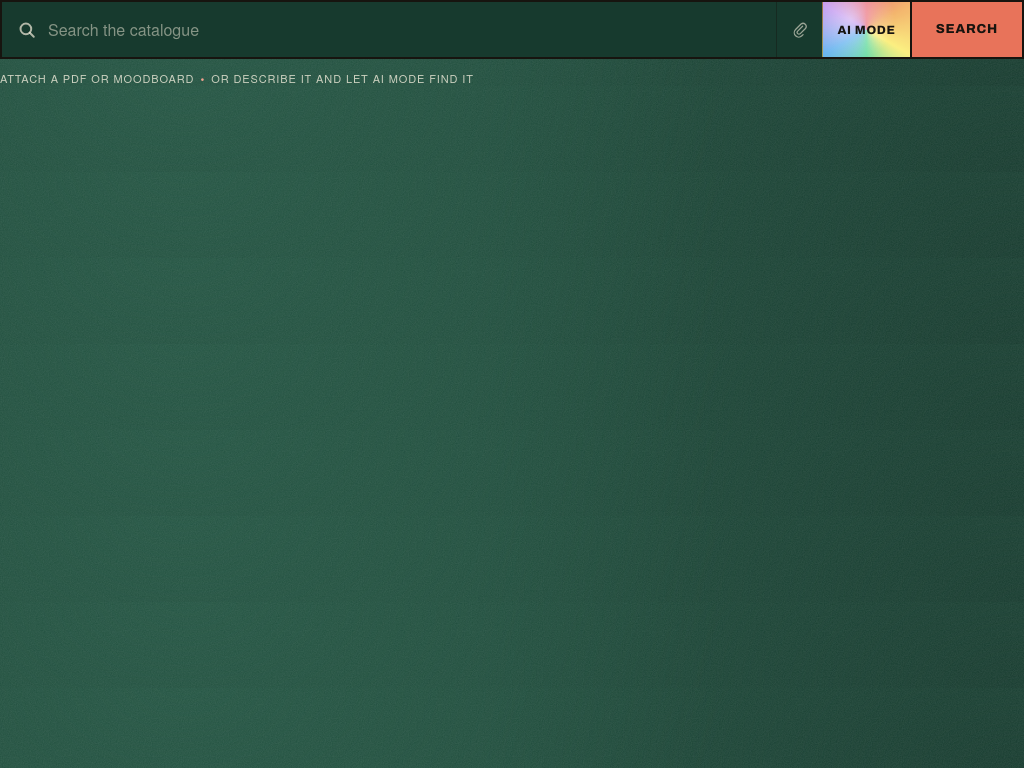
Test case: HeroSearch › routes the curated query with ai=1 and the budget when the dialog submits
Type "moody bar" into the search field labelled "Search the catalogue".
click(406, 30); type("moody bar")  # box [48,2,764,57]
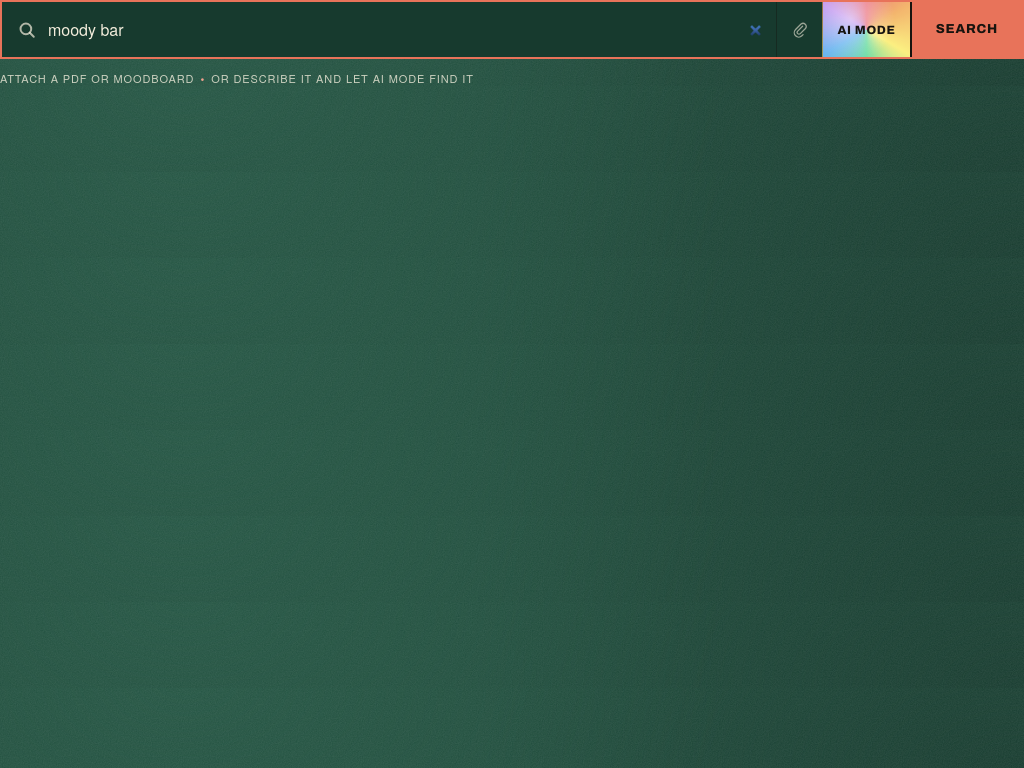
Click the button "AI Mode".
click(866, 30)  # box [822,2,910,57]
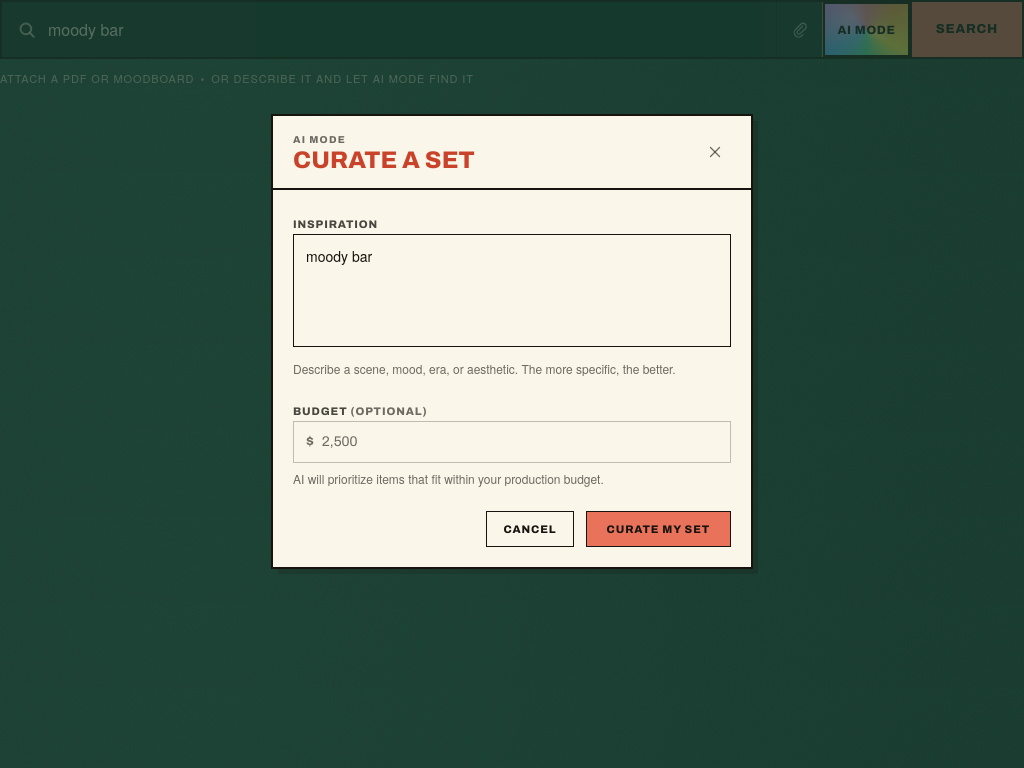
Type "2500" into the field labelled "Budget (optional)".
click(522, 442); type("2500")  # box [314,422,730,462]
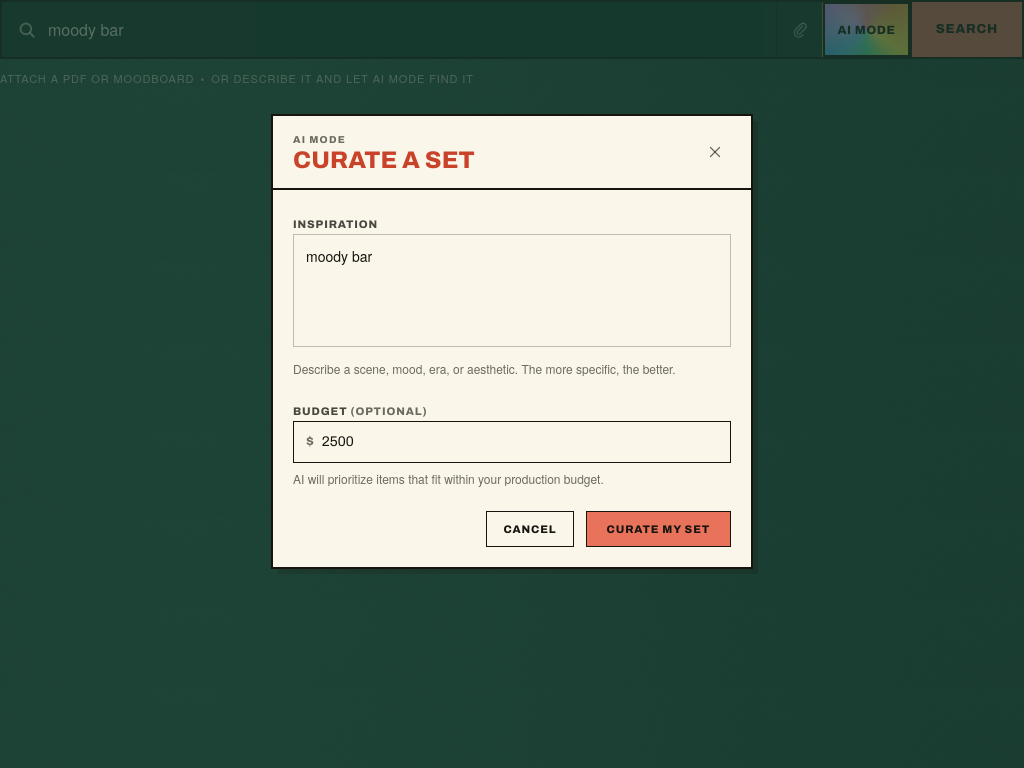
Click the button "Curate my set".
click(658, 529)  # box [586,511,731,547]
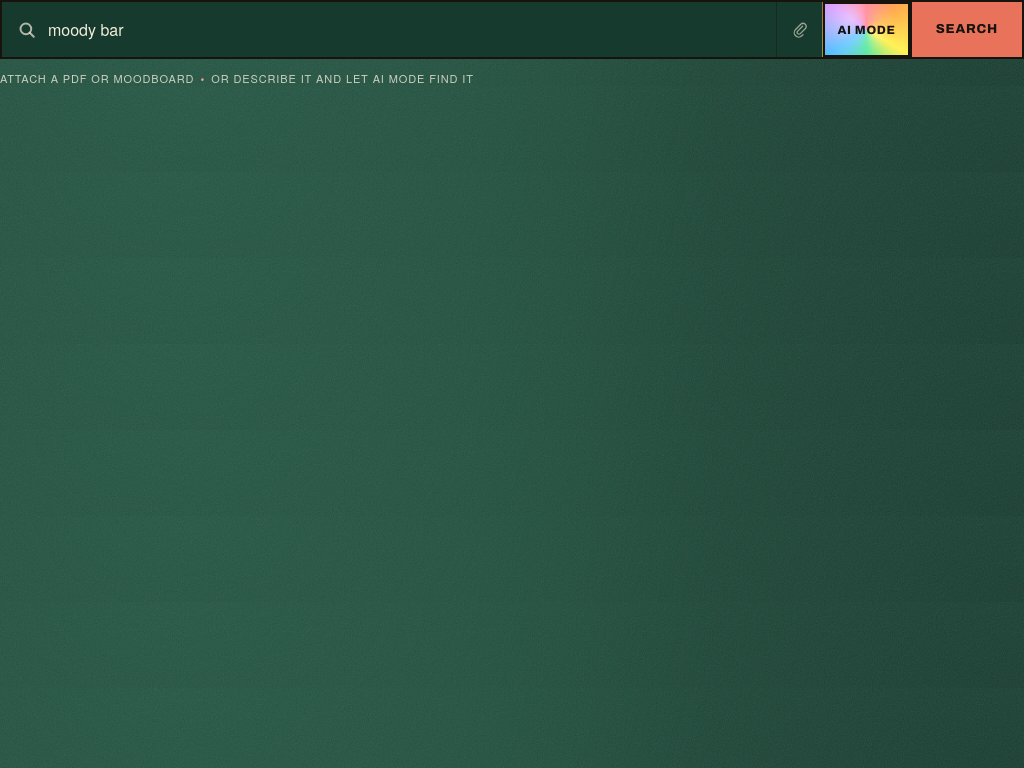
Expected: the dialog is gone
